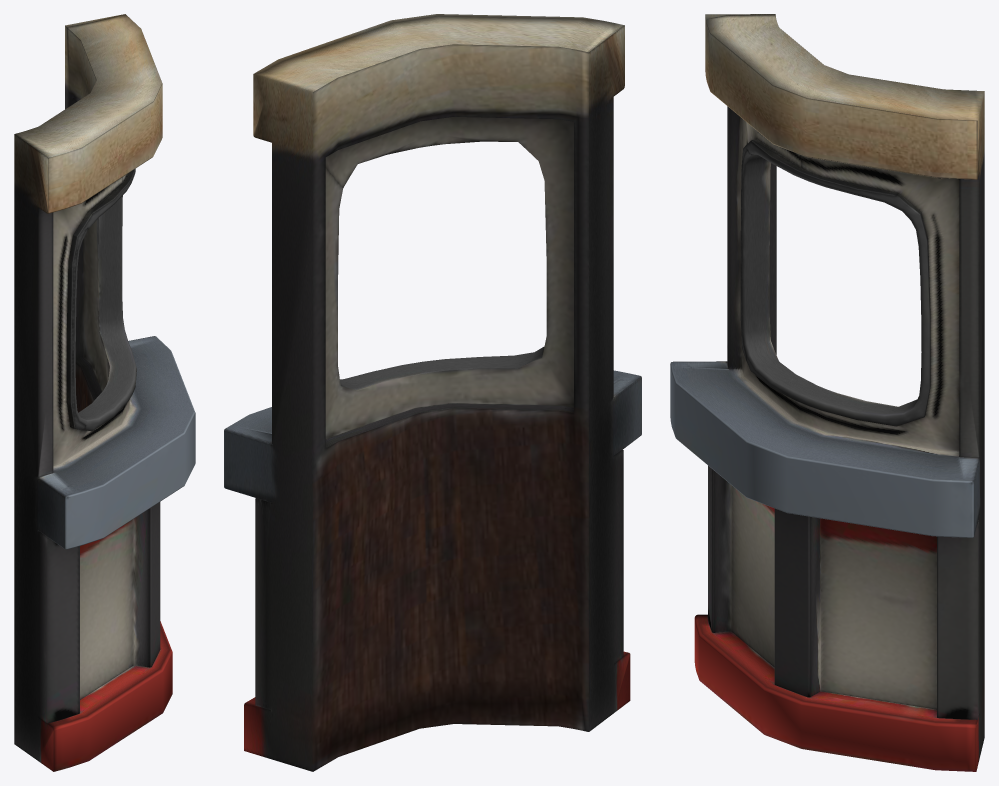
File: D_CurvedWindowFR.fbx
3 renders of one model, left to right at view 1: azimuth 30°, elevation 25°; view 2: azimuth 150°, elevation 25°; view 3: azimuth 270°, elevation 25°, orthographic. The views are drawn at different scales.
Parts seen in each view (by area): view 1: pCube68; view 2: pCube68; view 3: pCube68.
Part boxes in pixels (box(x1,y1,x2,y2)): pCube68: box(14, 14, 195, 771); pCube68: box(224, 14, 641, 771); pCube68: box(670, 14, 984, 771).
Size of the model in its own units: 2.15 by 5.35 by 2.35.
Materials: 1 (1 with a texture image).
